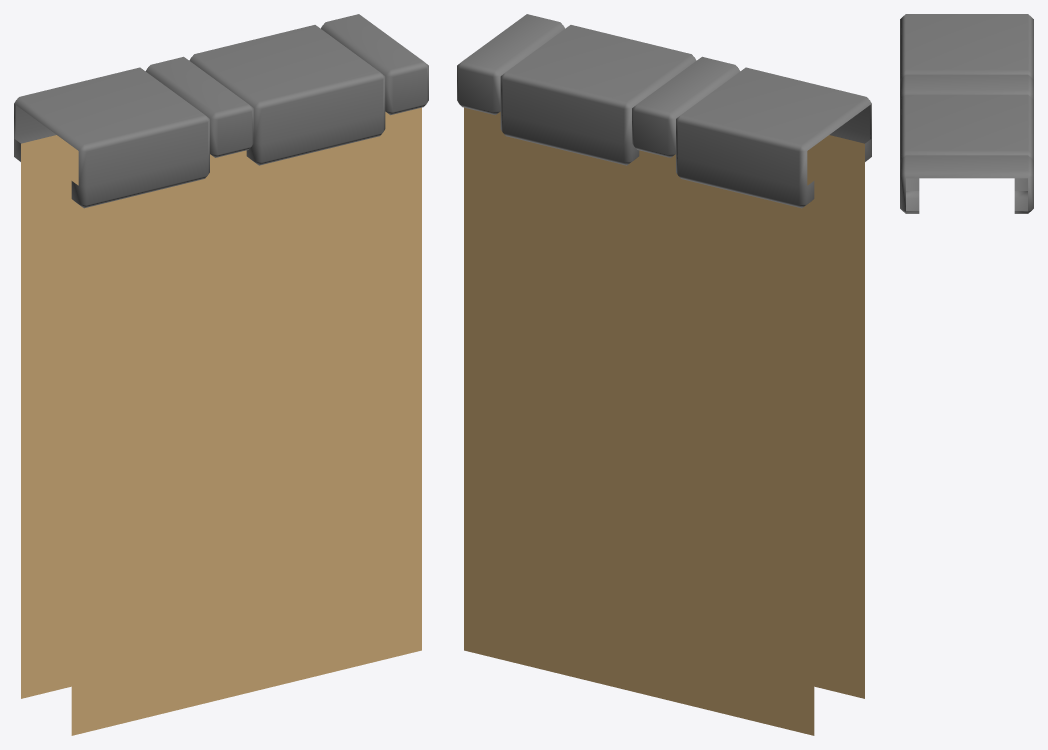
The model's file is SM_WallA_4x6_LOD0.fbx.
3 renders of one model, left to right at view 1: azimuth 30°, elevation 25°; view 2: azimuth 150°, elevation 25°; view 3: azimuth 270°, elevation 25°, orthographic. The views are drawn at different scales.
Visible parts, largest first — view 1: SM_WallA_4x6_LOD0; view 2: SM_WallA_4x6_LOD0; view 3: SM_WallA_4x6_LOD0.
Boxes of the visible parts, x1,y1,x2,y2 form: SM_WallA_4x6_LOD0: [14, 14, 428, 735]; SM_WallA_4x6_LOD0: [457, 14, 871, 735]; SM_WallA_4x6_LOD0: [900, 14, 1033, 213].
Size of the model in its own units: 4 by 6.5 by 1.4.
